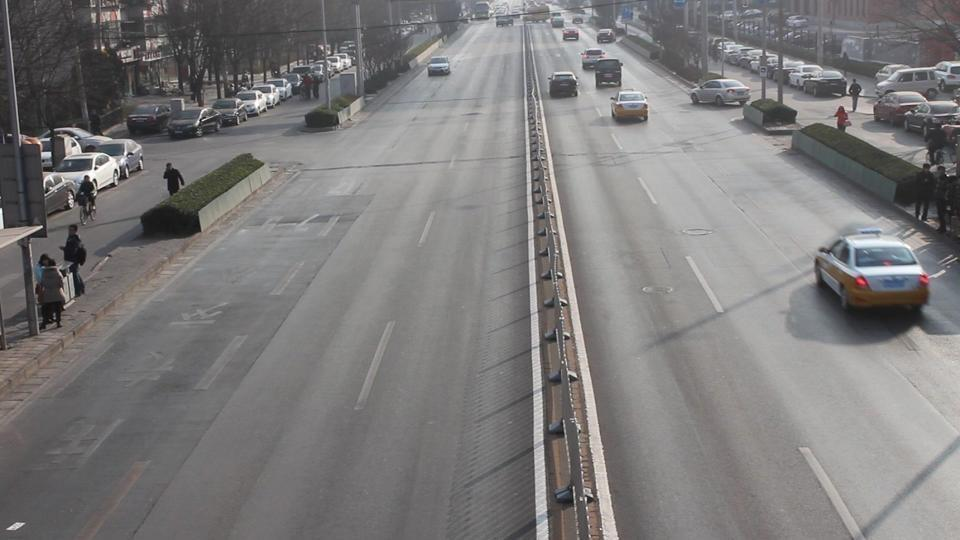car: (811, 228, 931, 312), (51, 151, 121, 194), (78, 136, 145, 177), (875, 67, 949, 100), (870, 90, 931, 126), (904, 100, 960, 137), (166, 106, 223, 139), (688, 78, 753, 106), (125, 103, 174, 135), (798, 66, 847, 97), (43, 173, 77, 214), (610, 89, 649, 123), (208, 98, 251, 126), (583, 50, 618, 78), (235, 89, 267, 116), (548, 71, 578, 99), (595, 59, 622, 89), (252, 82, 283, 105), (267, 79, 292, 103), (580, 47, 607, 69), (427, 57, 451, 77), (597, 28, 616, 43), (563, 26, 579, 40), (550, 14, 564, 26)
